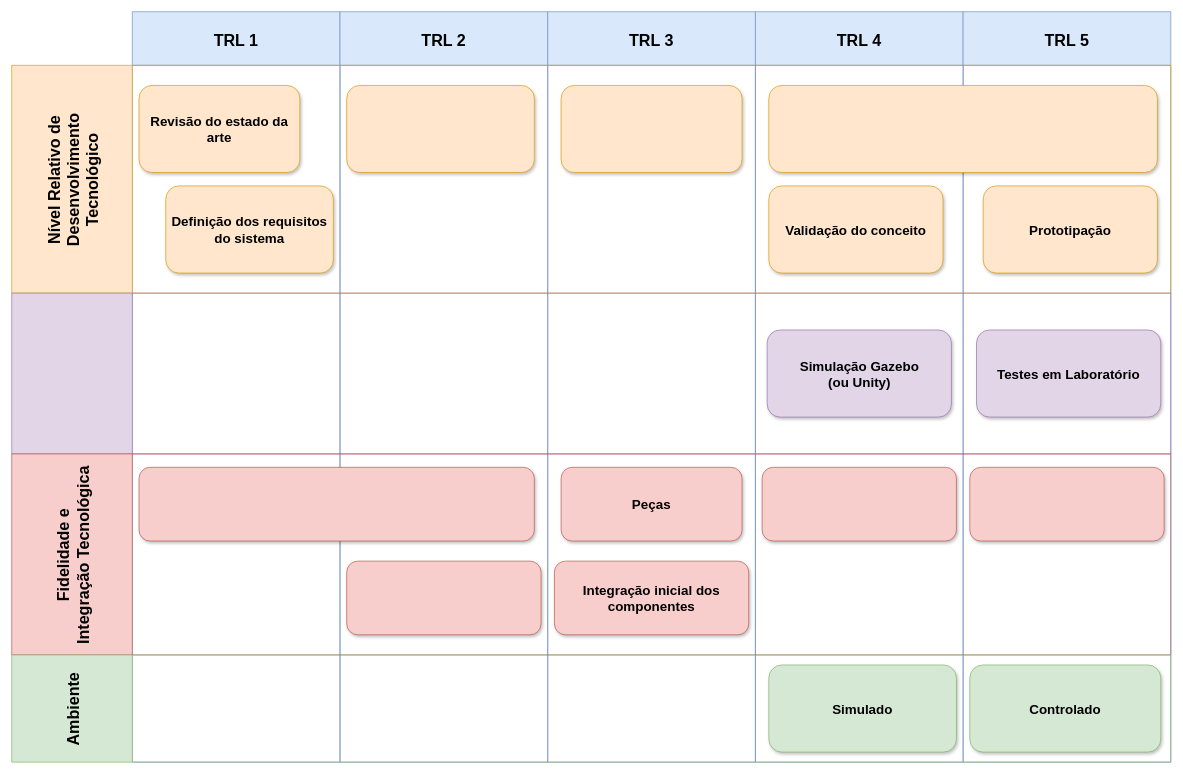
This 1183x774 diagram has some shape labels left out. The shapes that lost their labels are listed below. From the top down, each one's centre as x and y in pixels, then its label:
(440,129): Proposição dos conceitos e tecnologias aplicáveis
(652,129): Pesquisa de prova de viabilidade
(963,129): Desenvolvimento da tecnologia
(591,373): Escala de Testes
(337,505): Papel/Computador
(859,505): Similar
(1067,505): Sistema atual
(444,599): Análise básica dos componentes
